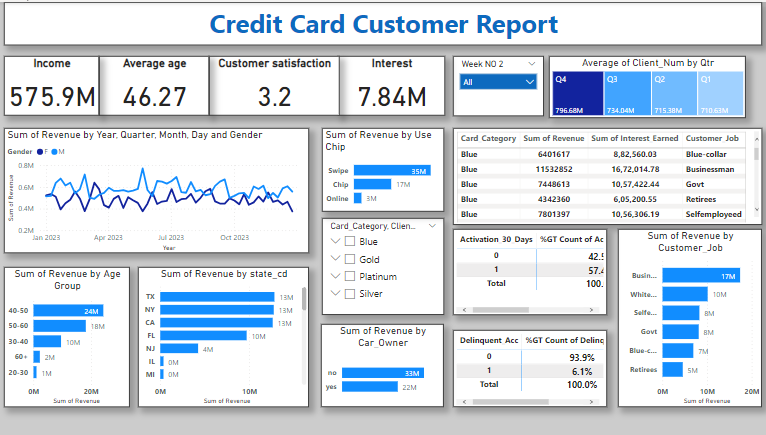

This screenshot's page, from the dashboard's own definition file:
{"tool":"powerbi","page":{"name":"cc customer","canvas":[1280,720],"ordinal":1},"visuals":[{"type":"slicer","fields":{"Values":["credit_card.Week NO 2"]},"box":[756.4,89.8,151.3,99.7],"z":0},{"type":"pivotTable","fields":{"Values":["Sum(credit_card.Delinquent_Acc)"],"Rows":["credit_card.Delinquent_Acc"]},"box":[756.4,545.2,256,128],"z":1000},{"type":"card","title":"Interest","fields":{"Values":["Sum(credit_card.Interest_Earned)"]},"box":[564.4,89,178.1,99.1],"z":2000},{"type":"card","title":"Customer satisfaction","fields":{"Values":["Avg(customer.Cust_Satisfaction_Score)"]},"box":[351.1,89,216.7,99.1],"z":3000},{"type":"card","title":"Average age","fields":{"Values":["Avg(customer.Customer_Age)"]},"box":[168,89,183.1,99.1],"z":4000},{"type":"card","title":"Income","fields":{"Values":["Sum(customer.Income)"]},"box":[10.1,89,157.9,99.1],"z":5000},{"type":"tableEx","fields":{"Values":["credit_card.Card_Category","Sum(credit_card.Revenue)","Sum(credit_card.Interest_Earned)","customer.Customer_Job"]},"box":[755.9,210,514,161.3],"z":6000},{"type":"barChart","fields":{"Y":["Sum(credit_card.Revenue)"],"Category":["customer.Car_Owner"]},"box":[536.9,535.3,204.5,138],"z":7000},{"type":"treemap","fields":{"Values":["Avg(customer.Client_Num)"],"Group":["credit_card.Qtr"]},"box":[915.9,89.8,327.5,103.1],"z":8000},{"type":"slicer","fields":{"Values":["credit_card.Card_Category","credit_card.Client_Num"]},"box":[539.2,359.5,203.3,161.3],"z":9000},{"type":"barChart","fields":{"Y":["Sum(credit_card.Revenue)"],"Category":["credit_card.Use Chip"]},"box":[539.2,210,203.3,139.4],"z":10000},{"type":"textbox","box":[10.1,0,1259.8,72.2],"z":11000},{"type":"lineChart","fields":{"Y":["Sum(credit_card.Revenue)"],"Series":["customer.Gender"],"Category":["credit_card.Week_Start_Date.Variation.Date Hierarchy.Year","credit_card.Week_Start_Date.Variation.Date Hierarchy.Quarter","credit_card.Week_Start_Date.Variation.Date Hierarchy.Month","credit_card.Week_Start_Date.Variation.Date Hierarchy.Day"]},"box":[10.1,210,507.3,208.3],"z":12000},{"type":"barChart","fields":{"Y":["Sum(credit_card.Revenue)"],"Category":["customer.Age Group"]},"box":[10,440.5,209.5,232.7],"z":14000},{"type":"barChart","fields":{"Y":["Sum(credit_card.Revenue)"],"Category":["customer.Customer_Job"]},"box":[1030.6,377.4,239.4,295.9],"z":15000},{"type":"barChart","fields":{"Y":["Sum(credit_card.Revenue)"],"Category":["customer.state_cd"]},"box":[232.7,440.5,284.3,232.7],"z":16000},{"type":"pivotTable","fields":{"Rows":["credit_card.Activation_30_Days"],"Values":["Sum(credit_card.Activation_30_Days)"]},"box":[756.4,377.4,256,143],"z":16001}]}

Visuals, with their boxes in screenshot pixels (x1, y1, x2, y2), scaled from the page's 1280x720 canvas onto the 766x435 screenshot:
slicer - credit_card.Week NO 2: bbox(453, 54, 543, 114)
pivotTable - Sum(credit_card.Delinquent_Acc) x credit_card.Delinquent_Acc: bbox(453, 329, 606, 407)
"Interest" card: bbox(338, 54, 444, 114)
"Customer satisfaction" card: bbox(210, 54, 340, 114)
"Average age" card: bbox(101, 54, 210, 114)
"Income" card: bbox(6, 54, 101, 114)
tableEx - credit_card.Card_Category x Sum(credit_card.Revenue): bbox(452, 127, 760, 224)
barChart - Sum(credit_card.Revenue) x customer.Car_Owner: bbox(321, 323, 444, 407)
treemap - Avg(customer.Client_Num) x credit_card.Qtr: bbox(548, 54, 744, 117)
slicer - credit_card.Card_Category x credit_card.Client_Num: bbox(323, 217, 444, 315)
barChart - Sum(credit_card.Revenue) x credit_card.Use Chip: bbox(323, 127, 444, 211)
textbox: bbox(6, 0, 760, 44)
lineChart - Sum(credit_card.Revenue) x customer.Gender: bbox(6, 127, 310, 253)
barChart - Sum(credit_card.Revenue) x customer.Age Group: bbox(6, 266, 131, 407)
barChart - Sum(credit_card.Revenue) x customer.Customer_Job: bbox(617, 228, 760, 407)
barChart - Sum(credit_card.Revenue) x customer.state_cd: bbox(139, 266, 309, 407)
pivotTable - credit_card.Activation_30_Days x Sum(credit_card.Activation_30_Days): bbox(453, 228, 606, 314)
